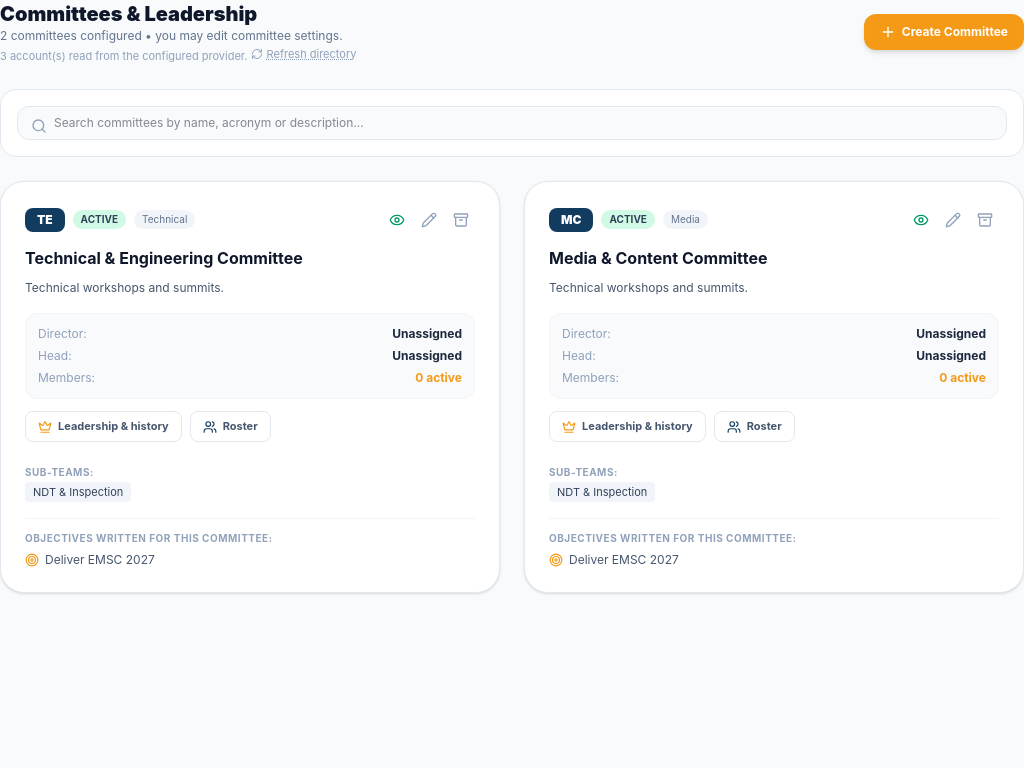
Test: committee CMS › refuses an unusable acronym, points at the field, and leaves the stored row untouched
Expected: the heading "Technical & Engineering Committee" is shown, left=25, top=248, right=303, bottom=268
Click the button named "Edit Media & Content Committee" at (953, 220), box left=939, top=206, right=967, bottom=234
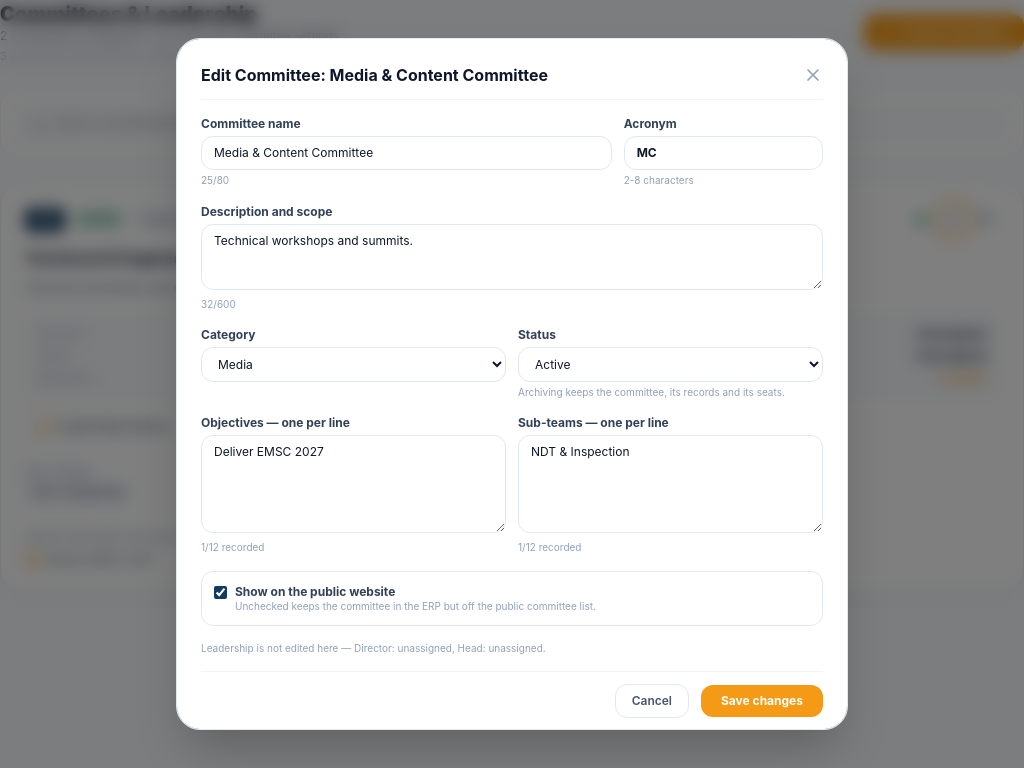
Replace the text in the field labelled "Acronym" with "##" at (723, 153), box left=624, top=136, right=823, bottom=170
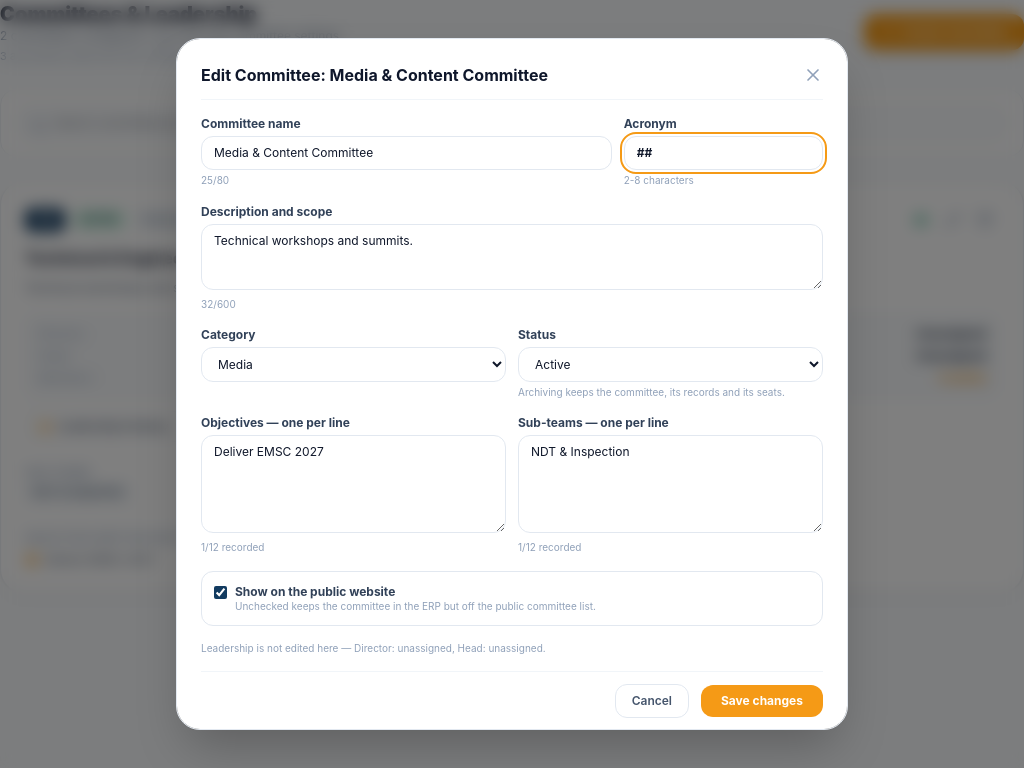
Click the button "Save changes" at (762, 701), box left=701, top=685, right=823, bottom=717
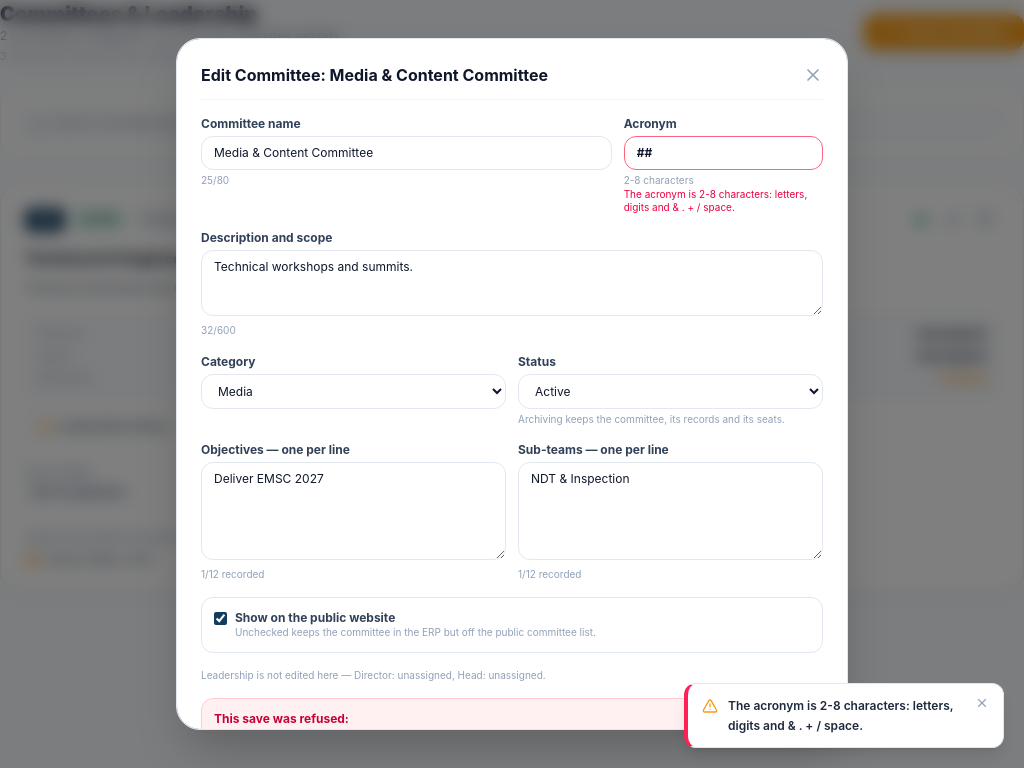
Expected: the 1st text "The acronym is 2-8 characters: letters, digits and & . + / space." is shown, left=624, top=188, right=823, bottom=214
